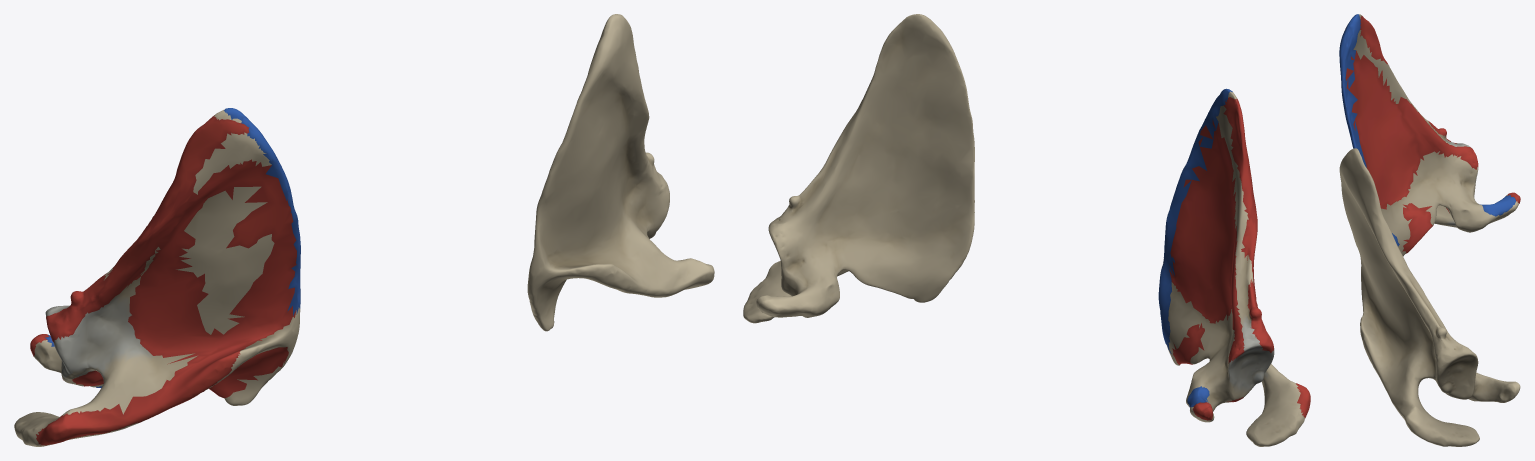
File: scapula.glb
The picture shows the model from 3 angles, left to right: view 1: azimuth 30°, elevation 25°; view 2: azimuth 150°, elevation 25°; view 3: azimuth 270°, elevation 25°; orthographic projection. The views are drawn at different scales.
Parts seen in each view (by area): view 1: FJ3279, origo__fossa-infraspinata__FJ1500, scapula__fossa-infraspinata, origo__acromion-spina__FJ1513, scapula__cavitas-glenoidalis, scapula__acromion-spina, FJ3384, origo__margo-lateralis__FJ1507, origo__margo-lateralis__FJ1508, origo__fossa-supraspinata__FJ1506, origo__cavitas-glenoidalis__FJ1479, insertio__margo-medialis__FJ1536 (+2 smaller); view 2: FJ3279, origo__fossa-infraspinata__FJ1500, FJ3384, insertio__margo-medialis__FJ1459, scapula__cavitas-glenoidalis, scapula__fossa-subscapularis, origo__margo-lateralis__FJ1507, scapula__acromion-spina, origo__fossa-subscapularis__FJ1504, origo__cavitas-glenoidalis__FJ1479, origo__fossa-supraspinata__FJ1506, origo__margo-lateralis__FJ1508; view 3: FJ3279, origo__fossa-infraspinata__FJ1500, FJ3384, origo__fossa-subscapularis__FJ1504, scapula__fossa-subscapularis, insertio__margo-medialis__FJ1459, scapula__processus-coracoideus, origo__fossa-supraspinata__FJ1506, insertio__margo-medialis__FJ1536, origo__margo-lateralis__FJ1507, insertio__processus-coracoideus__FJ1456, scapula__fossa-supraspinata.
Boxes of the visible parts, x1=… form: FJ3279: x1=527, y1=14, x2=714, y2=331; origo__fossa-infraspinata__FJ1500: x1=128, y1=159, x2=296, y2=364; scapula__fossa-infraspinata: x1=104, y1=171, x2=274, y2=334; origo__acromion-spina__FJ1513: x1=36, y1=341, x2=249, y2=445; scapula__cavitas-glenoidalis: x1=45, y1=296, x2=152, y2=379; scapula__acromion-spina: x1=15, y1=314, x2=299, y2=446; FJ3384: x1=14, y1=115, x2=299, y2=444; origo__margo-lateralis__FJ1507: x1=136, y1=115, x2=249, y2=245; origo__margo-lateralis__FJ1508: x1=81, y1=191, x2=197, y2=314; origo__fossa-supraspinata__FJ1506: x1=72, y1=347, x2=288, y2=398; origo__cavitas-glenoidalis__FJ1479: x1=46, y1=273, x2=106, y2=342; insertio__margo-medialis__FJ1536: x1=241, y1=117, x2=300, y2=308; FJ3279: x1=743, y1=14, x2=974, y2=323; origo__fossa-infraspinata__FJ1500: x1=1169, y1=120, x2=1235, y2=323; FJ3384: x1=1166, y1=105, x2=1299, y2=446; insertio__margo-medialis__FJ1459: x1=1158, y1=88, x2=1232, y2=353; scapula__cavitas-glenoidalis: x1=1228, y1=316, x2=1274, y2=391; scapula__fossa-subscapularis: x1=1223, y1=197, x2=1252, y2=354; origo__margo-lateralis__FJ1507: x1=1223, y1=97, x2=1257, y2=231; scapula__acromion-spina: x1=1163, y1=263, x2=1304, y2=443; origo__fossa-subscapularis__FJ1504: x1=1228, y1=226, x2=1244, y2=363; origo__cavitas-glenoidalis__FJ1479: x1=1247, y1=279, x2=1273, y2=352; origo__fossa-supraspinata__FJ1506: x1=1172, y1=323, x2=1204, y2=364; origo__margo-lateralis__FJ1508: x1=1241, y1=191, x2=1257, y2=286; FJ3279: x1=1339, y1=148, x2=1520, y2=446; origo__fossa-infraspinata__FJ1500: x1=1345, y1=51, x2=1420, y2=209; FJ3384: x1=1353, y1=30, x2=1507, y2=256; origo__fossa-subscapularis__FJ1504: x1=1398, y1=97, x2=1478, y2=169; scapula__fossa-subscapularis: x1=1389, y1=78, x2=1466, y2=183; insertio__margo-medialis__FJ1459: x1=1340, y1=14, x2=1399, y2=246; scapula__processus-coracoideus: x1=1457, y1=200, x2=1519, y2=232; origo__fossa-supraspinata__FJ1506: x1=1402, y1=203, x2=1449, y2=253; insertio__margo-medialis__FJ1536: x1=1339, y1=23, x2=1356, y2=148; origo__margo-lateralis__FJ1507: x1=1345, y1=16, x2=1388, y2=64; insertio__processus-coracoideus__FJ1456: x1=1480, y1=195, x2=1515, y2=216; scapula__fossa-supraspinata: x1=1439, y1=197, x2=1462, y2=229.
Bounding box in the file's own units: 333 × 166 × 108.
